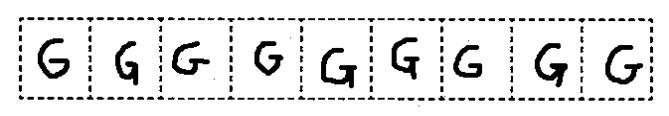G: (32, 34, 79, 86), (598, 40, 648, 88), (314, 44, 360, 94), (528, 39, 572, 90), (386, 33, 430, 81), (168, 35, 212, 79), (250, 34, 286, 80), (448, 41, 488, 82), (112, 38, 145, 87)
